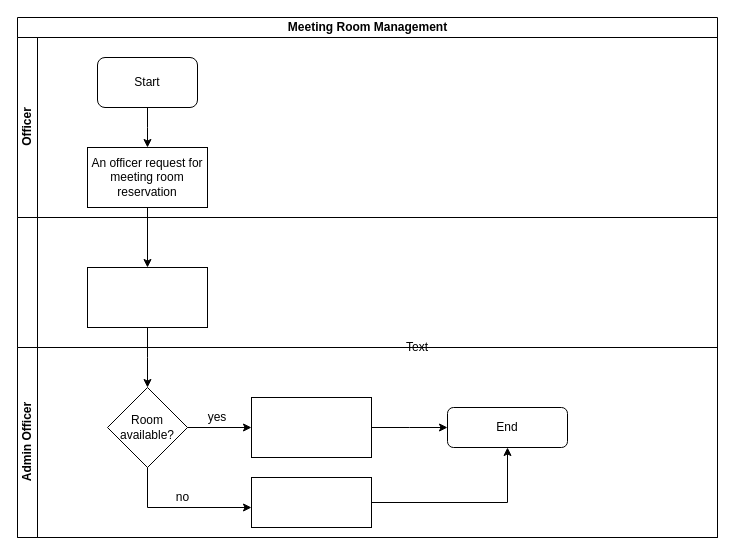
The diagram is 735 pixels wide and 555 high, and some of its shapes have lost their labels. The shapes that lost their labels are listed below. From the top down, each one's box as (x1, y1, x2, y2) in pixels, then its label:
(86, 266, 208, 328): Receive and forward request to admin
(16, 216, 718, 348): HRM
(250, 396, 372, 458): Reserve room and notify requester
(250, 476, 372, 528): Notify requester
